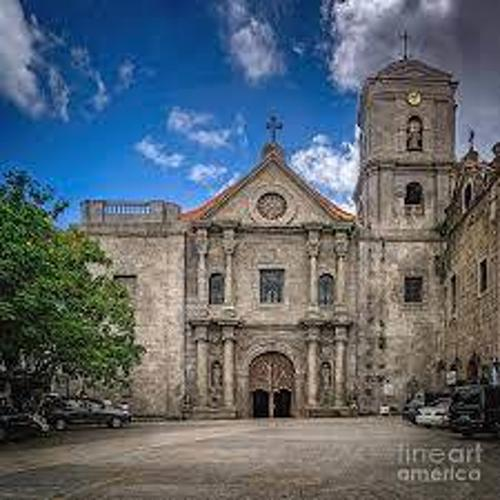San Agustin Church: (181, 9, 449, 418)
